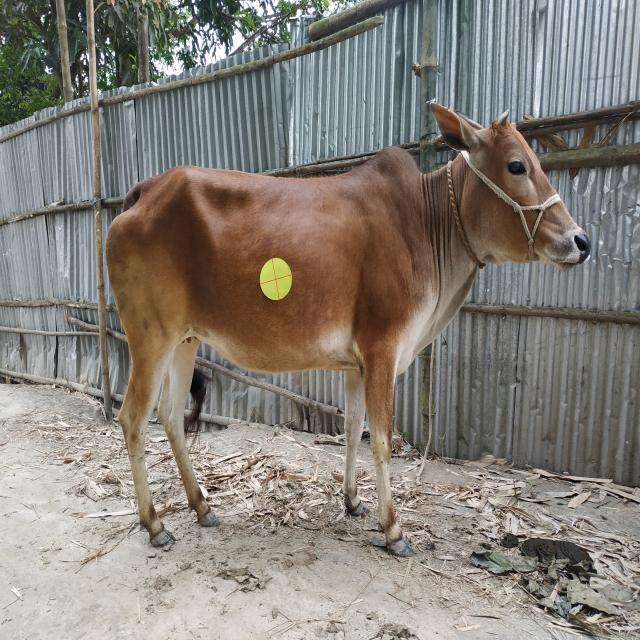badan_sapi: (112, 173, 422, 374)
sapi: (106, 105, 594, 558)
